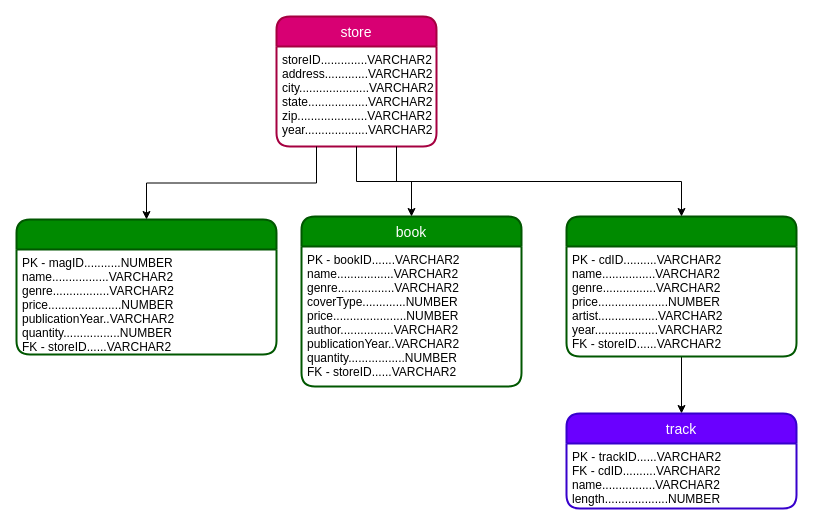
This 813x525 diagram has some shape labels left out. The box of each missing label's shape, as (x1, y1, x2, y2) in pixels:
cd: (565, 215, 797, 357)
magazine: (15, 218, 277, 355)
